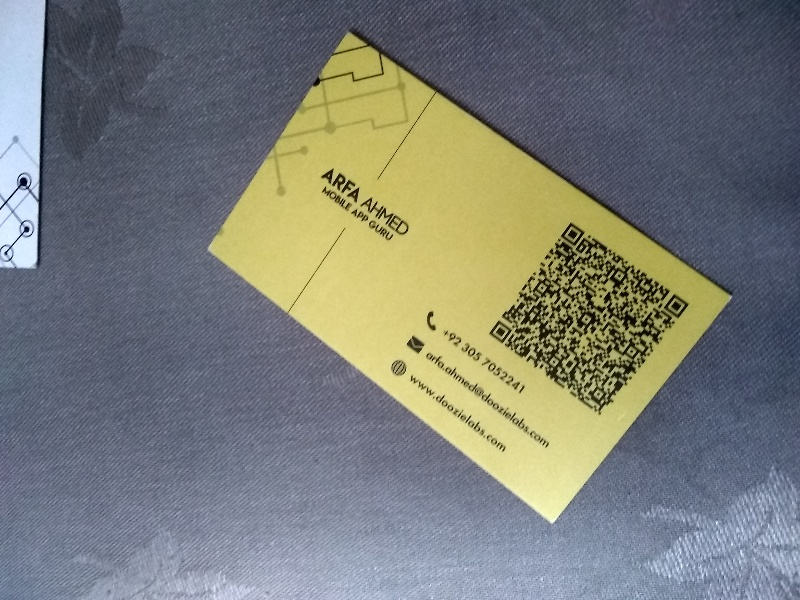front: (199, 24, 732, 527)
